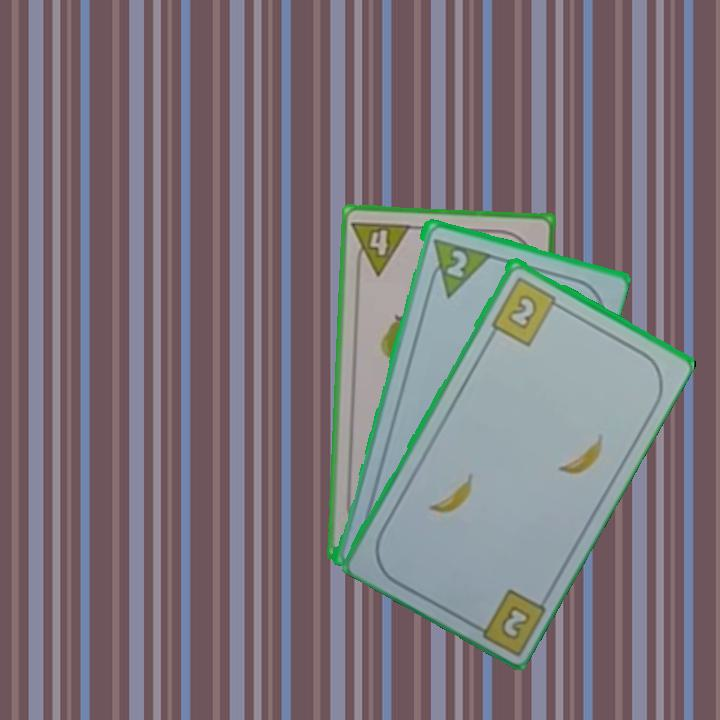2b: (464, 584, 548, 655), (487, 273, 566, 348)
2p: (423, 234, 491, 300)
4p: (348, 217, 414, 278)
